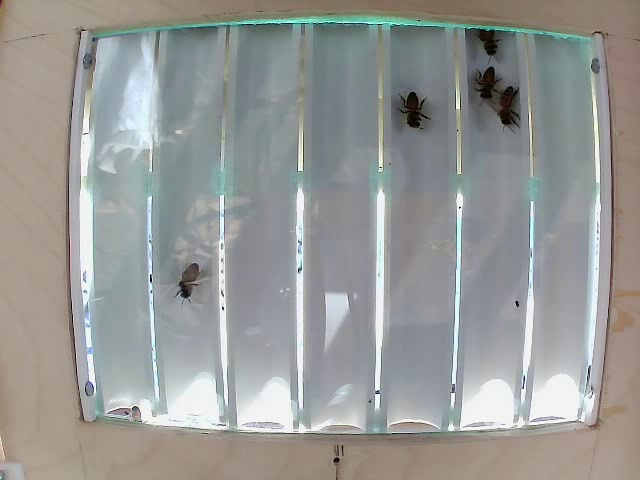bee: (167, 255, 214, 297), (397, 88, 433, 136), (471, 17, 507, 64), (461, 72, 498, 105), (503, 101, 523, 135)
